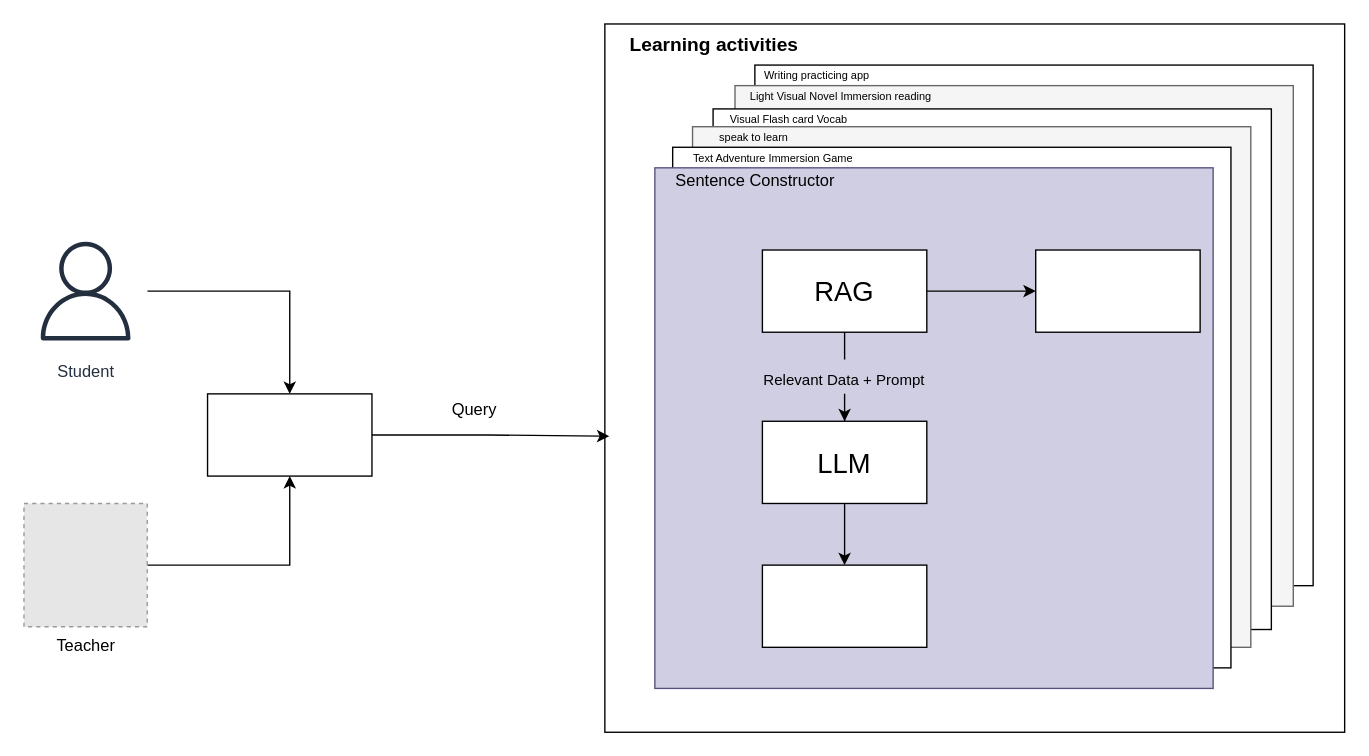
Image size: 1369x756. Some labels were removed from this diagram. Grey dashed boxes stand in for pictures. The centre of each missing label's shape, as x and y in pixels:
Context: the point at 1117,290
Lang App: the point at 289,434
Response: the point at 844,605
